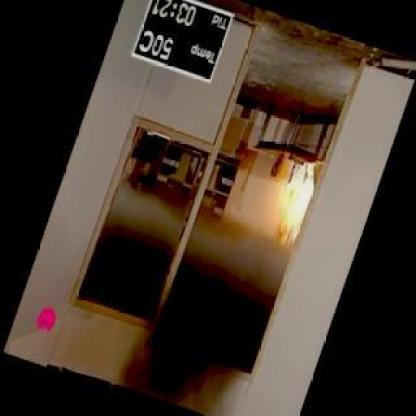Fire: (264, 152, 324, 248)
